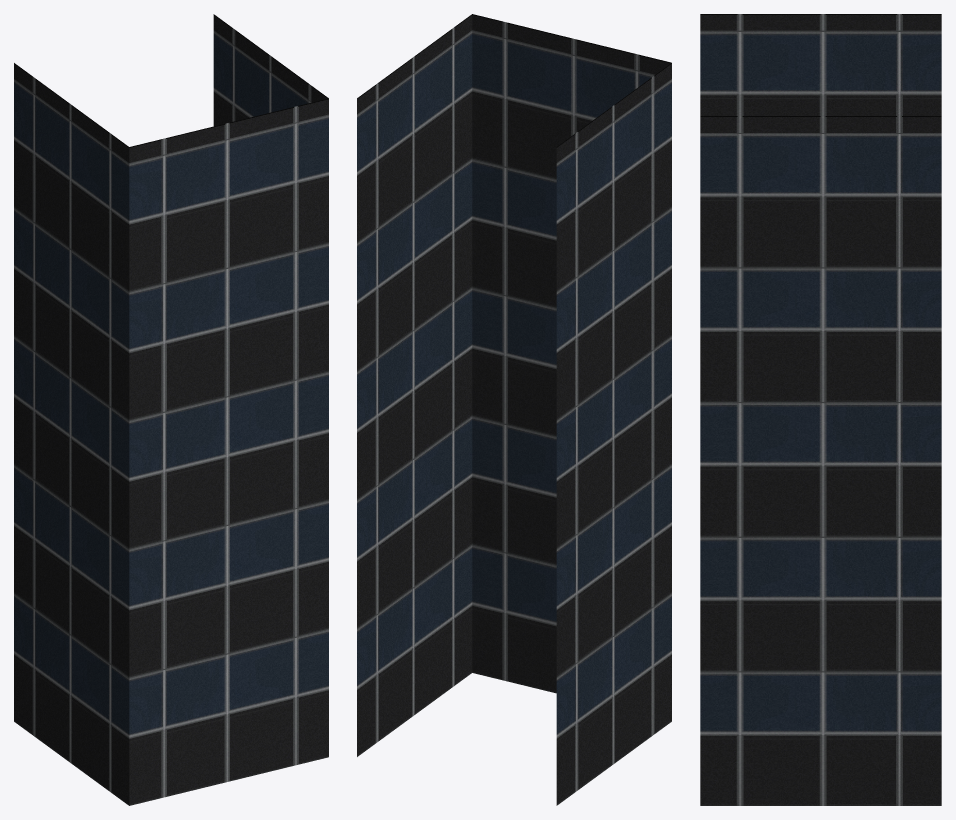
File: Background_Skyscraper4.fbx
The picture shows the model from 3 angles, left to right: view 1: azimuth 30°, elevation 25°; view 2: azimuth 150°, elevation 25°; view 3: azimuth 270°, elevation 25°; orthographic projection. The views are drawn at different scales.
Parts seen in each view (by area): view 1: Building_4; view 2: Building_4; view 3: Building_4.
Part boxes in pixels (x1=…): Building_4: x1=14, y1=14, x2=328, y2=805; Building_4: x1=357, y1=14, x2=671, y2=805; Building_4: x1=700, y1=14, x2=941, y2=805.
Bounding box in the file's own units: 130 × 410 × 130.
1 material, 1 textured.
